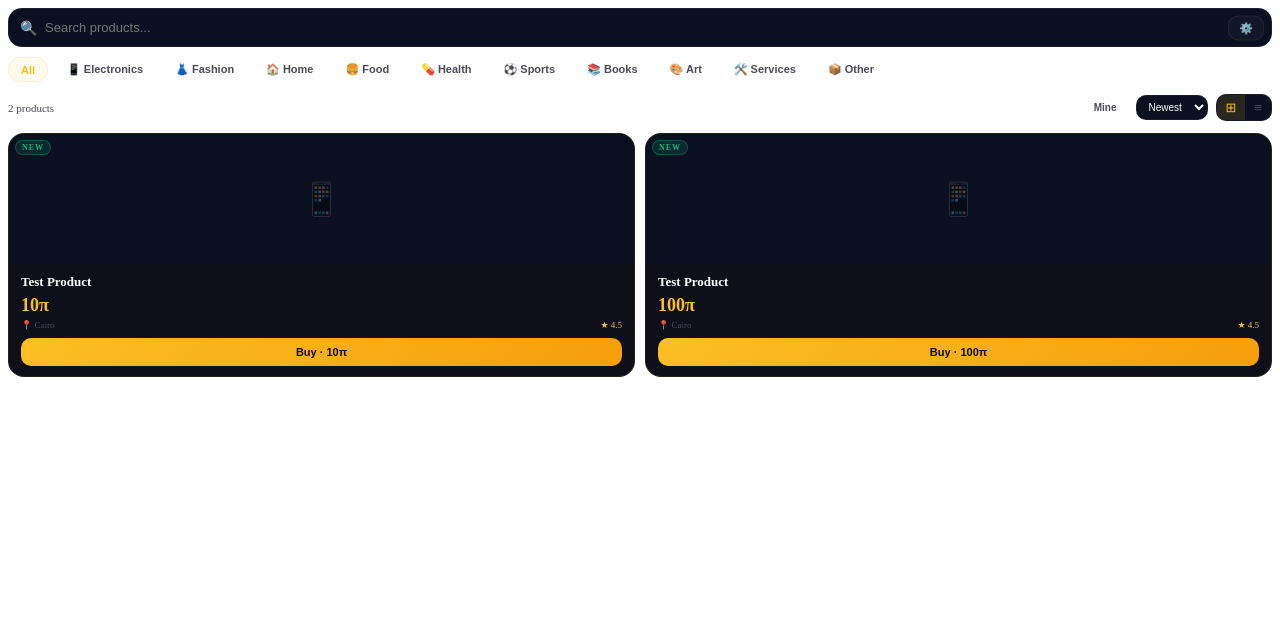
Test: ProductsTab › بيفلتر بـ min price
The image size is (1280, 622).
Click the button with test id "filter-toggle" at {"x": 1246, "y": 28}, box [1228,15,1264,40]
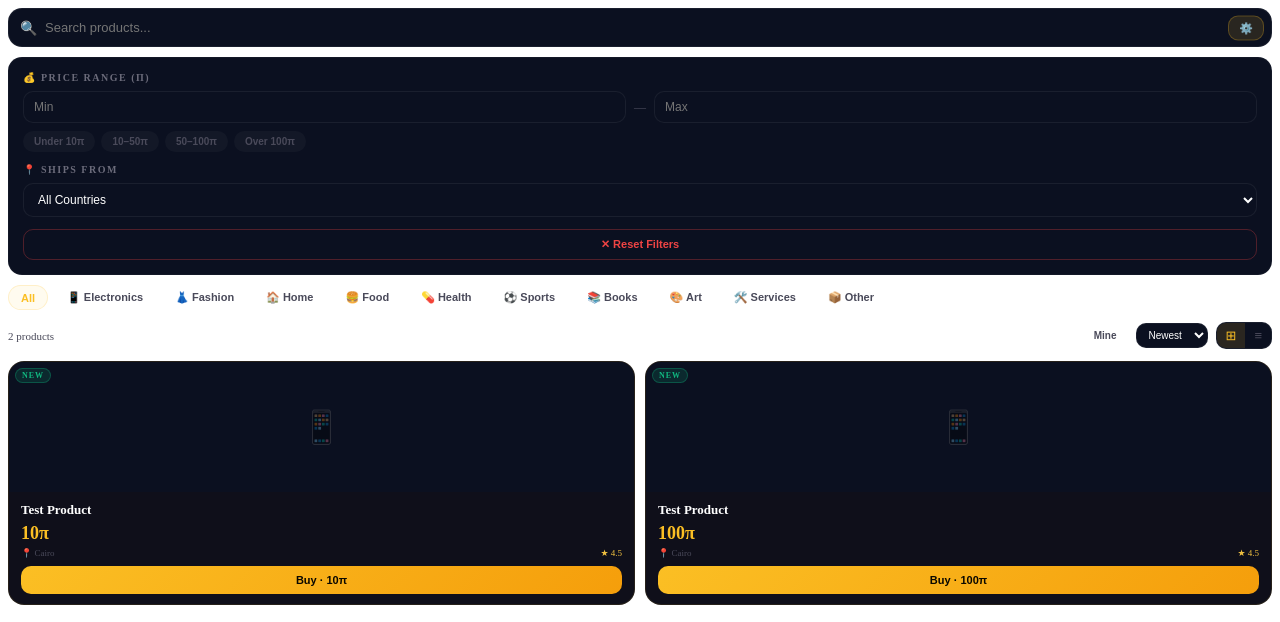
Type "50" into the number field with placeholder "Min" at {"x": 324, "y": 107}, box [23,91,626,123]
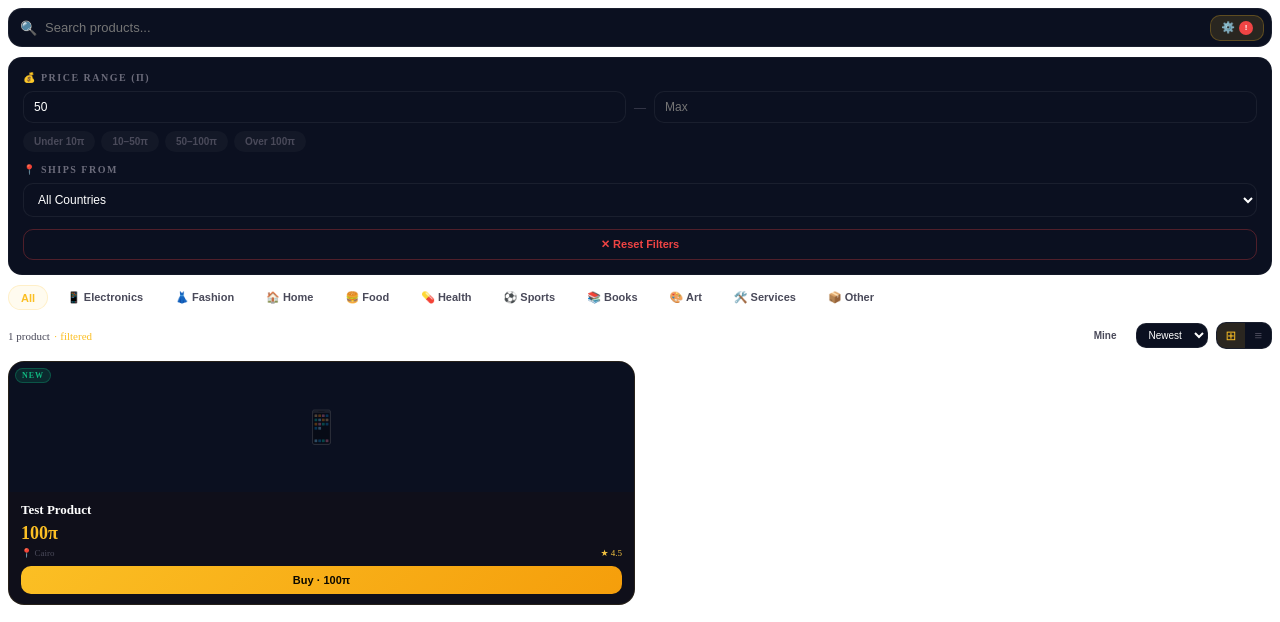
Expected: the element with test id "card-p2" is shown, [8,361,635,605]
Expected: the element with test id "card-p1" is gone
